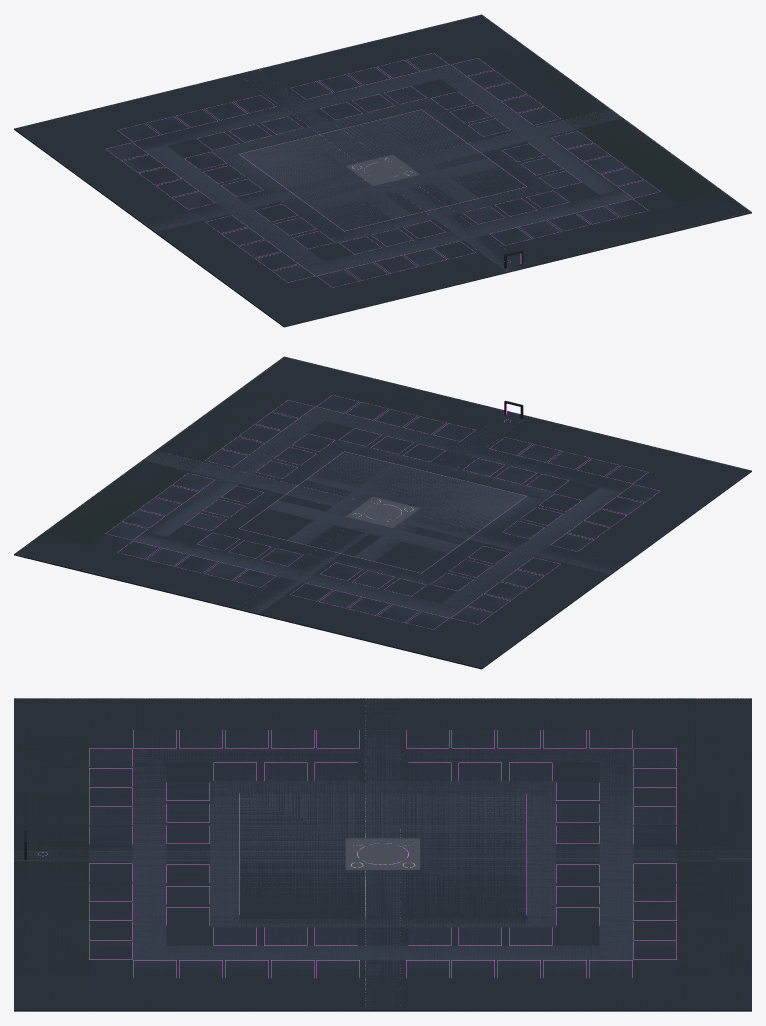
3 views of the same model, one above another, from view 1: azimuth 30°, elevation 25°; view 2: azimuth 150°, elevation 25°; view 3: azimuth 270°, elevation 25° (orthographic). The views are drawn at different scales.
Visible parts, largest first — view 1: district_pixel.lod1; view 2: district_pixel.lod1; view 3: district_pixel.lod1.
Boxes of the visible parts, left/top/right/bottom form: district_pixel.lod1: left=14, top=14, right=751, bottom=327; district_pixel.lod1: left=14, top=356, right=751, bottom=669; district_pixel.lod1: left=14, top=698, right=751, bottom=1011.
Bounding box in the file's own units: 256 × 7.63 × 256.
